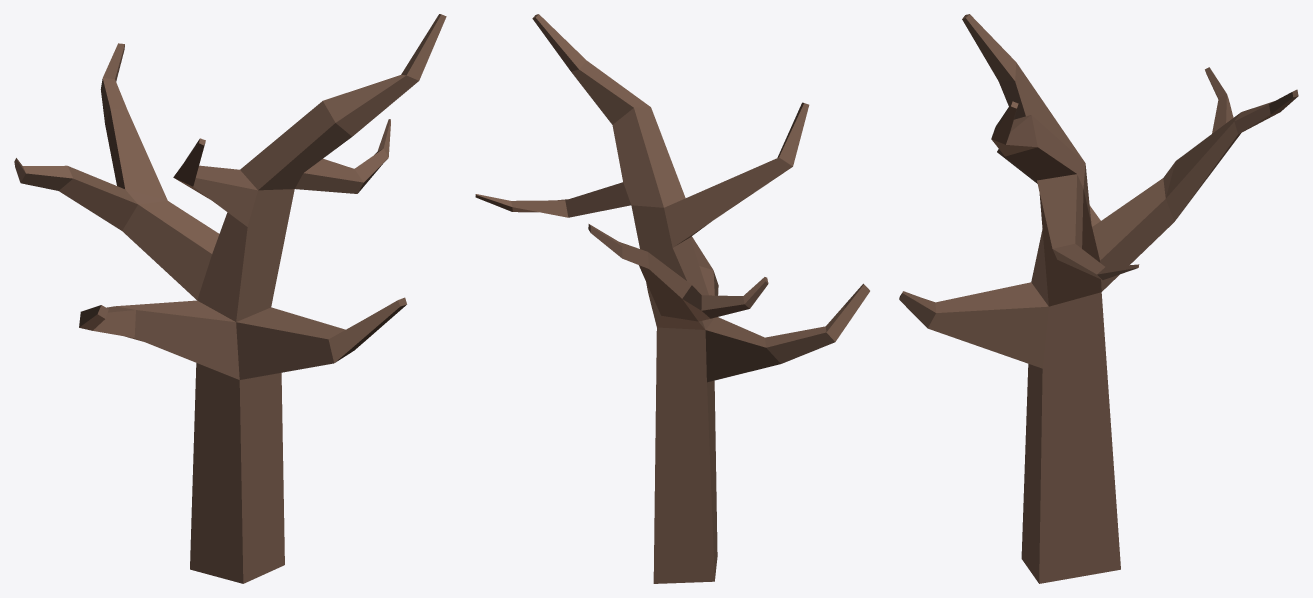
The model's file is TreeAutumn2_Alt4.fbx.
3 views of the same model, side by side, from view 1: azimuth 30°, elevation 25°; view 2: azimuth 150°, elevation 25°; view 3: azimuth 270°, elevation 25° (orthographic). The views are drawn at different scales.
Parts seen in each view (by area): view 1: TreeAutumn2_Alt4; view 2: TreeAutumn2_Alt4; view 3: TreeAutumn2_Alt4.
Part boxes in pixels (x1,y1,x2,y2): TreeAutumn2_Alt4: (14,14,446,583); TreeAutumn2_Alt4: (475,14,869,583); TreeAutumn2_Alt4: (899,14,1298,583).
Bounding box in the file's own units: 1.31 × 1.84 × 1.19.
